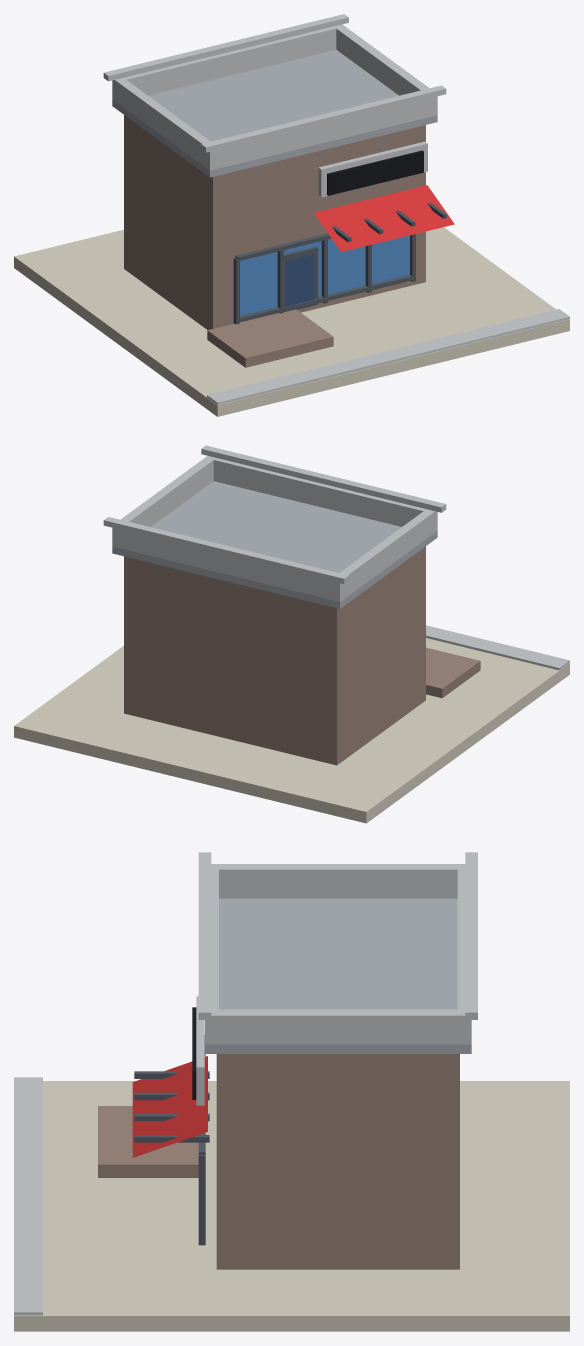
The picture shows the model from 3 angles, top to bottom: view 1: azimuth 30°, elevation 25°; view 2: azimuth 150°, elevation 25°; view 3: azimuth 270°, elevation 25°; orthographic projection. The views are drawn at different scales.
Parts seen in each view (by area): view 1: b14_v2_lod1; view 2: b14_v2_lod1; view 3: b14_v2_lod1.
Boxes of the visible parts, x1,y1,x2,y2 form: b14_v2_lod1: [14, 14, 569, 416]; b14_v2_lod1: [14, 445, 569, 823]; b14_v2_lod1: [14, 852, 569, 1331].
Bounding box in the file's own units: 0.96 × 0.537 × 0.96.
